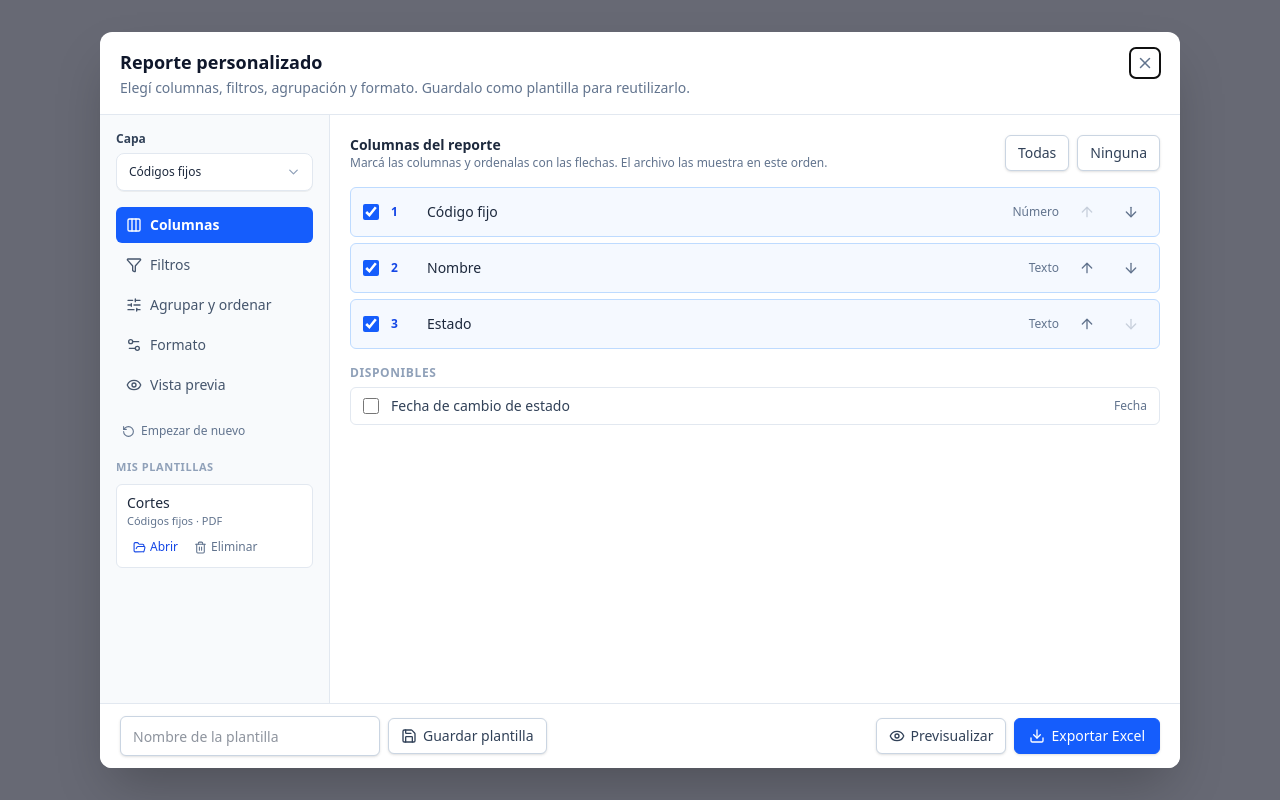
ReportBuilderDialog › shows API validation errors without losing the configuration
Expected: the list named "Columnas seleccionadas" is shown, [350,187,1160,349]
Click the button "Previsualizar".
click(941, 736)  # box [876,718,1006,754]
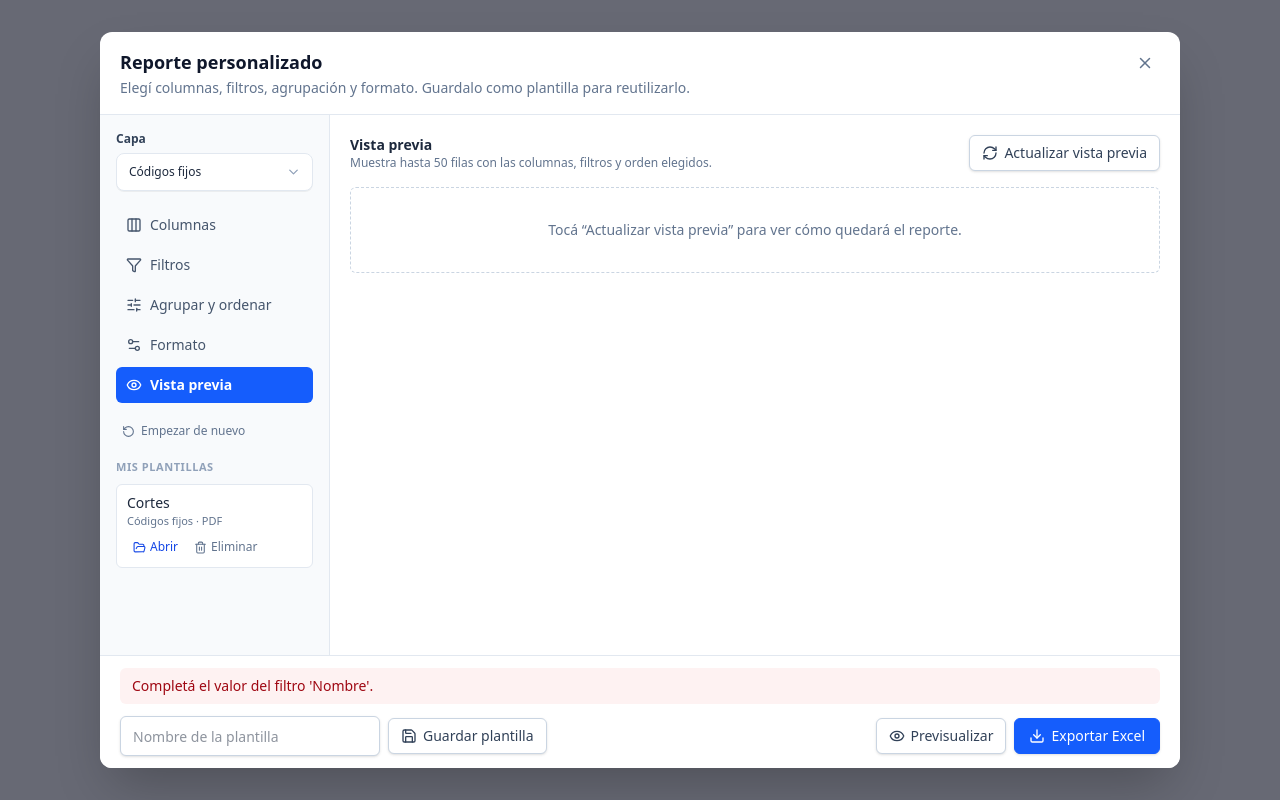
Expected: the dropdown named "Capa del reporte" shows "Códigos fijos", [116,153,313,191]
Expected: the message reads "Completá el valor del filtro 'Nombre'.", [132,676,373,695]
